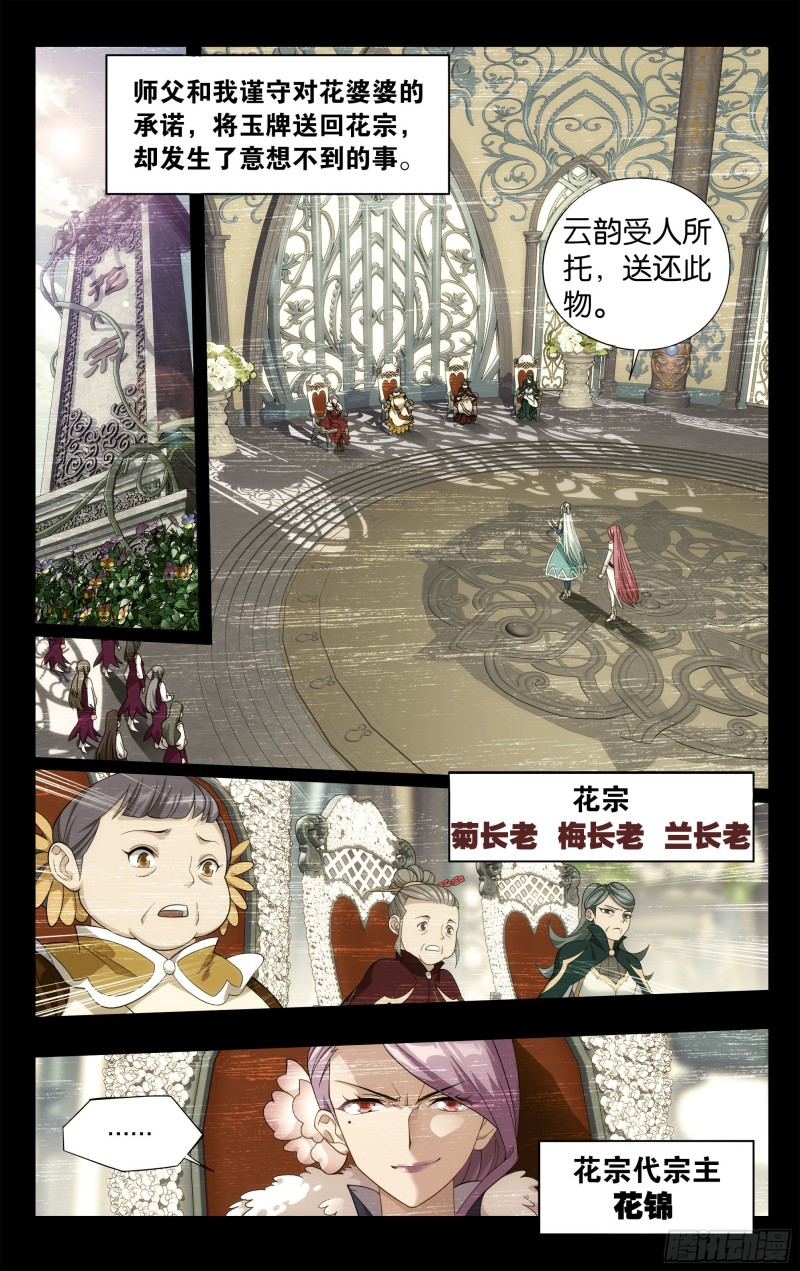boxCube: (102, 53, 447, 191), (444, 772, 753, 859), (534, 1141, 756, 1234)
boxElec: (60, 1093, 204, 1177)
boxEllipse: (543, 179, 732, 356)
minBox: (30, 44, 771, 790), (26, 767, 770, 1021), (30, 1024, 768, 1219), (30, 44, 216, 643)
